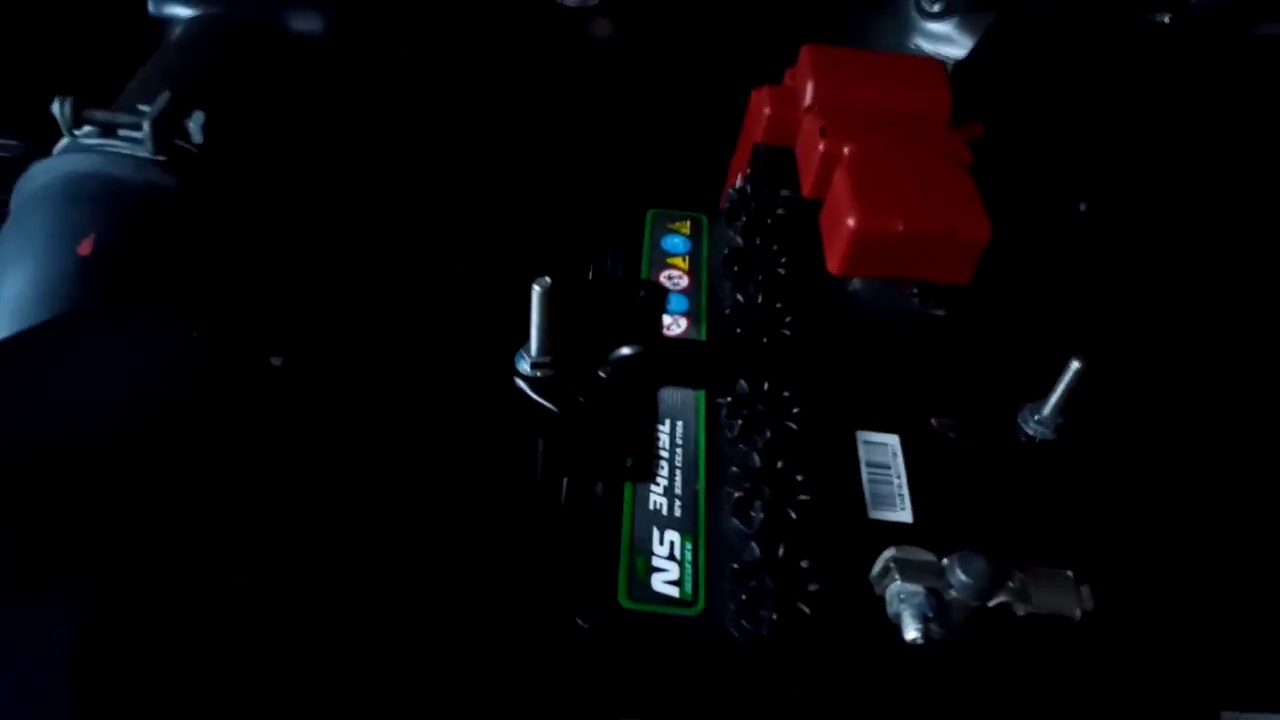battery: (623, 186, 1114, 654)
neg_connected: (847, 504, 1080, 670)
pos_connected: (712, 55, 991, 287)
